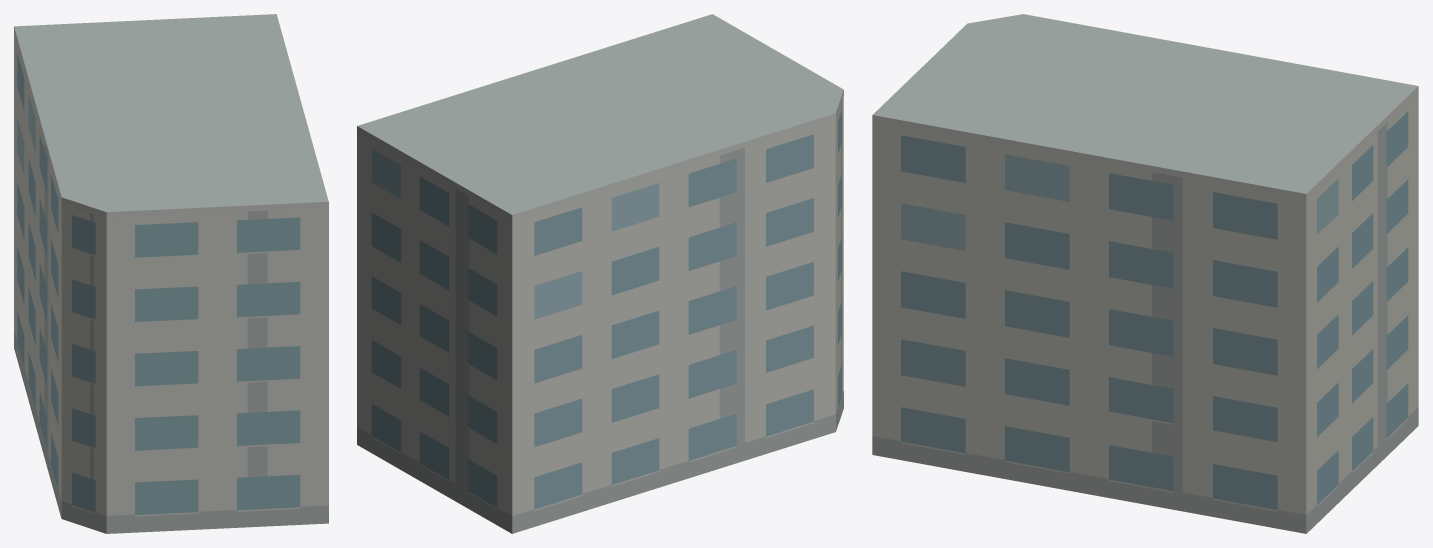
The model's file is survey-upis-32566041.glb.
The picture shows the model from 3 angles, left to right: view 1: azimuth 30°, elevation 25°; view 2: azimuth 150°, elevation 25°; view 3: azimuth 270°, elevation 25°; orthographic projection. The views are drawn at different scales.
Visible parts, largest first — view 1: survey-upis-32566041.tmp; view 2: survey-upis-32566041.tmp; view 3: survey-upis-32566041.tmp.
Part boxes in pixels (<box>): survey-upis-32566041.tmp: <box>14,14,328,533</box>; survey-upis-32566041.tmp: <box>357,14,843,533</box>; survey-upis-32566041.tmp: <box>872,14,1418,533</box>.
Bounding box in the file's own units: 15.28 × 13.45 × 19.59.
